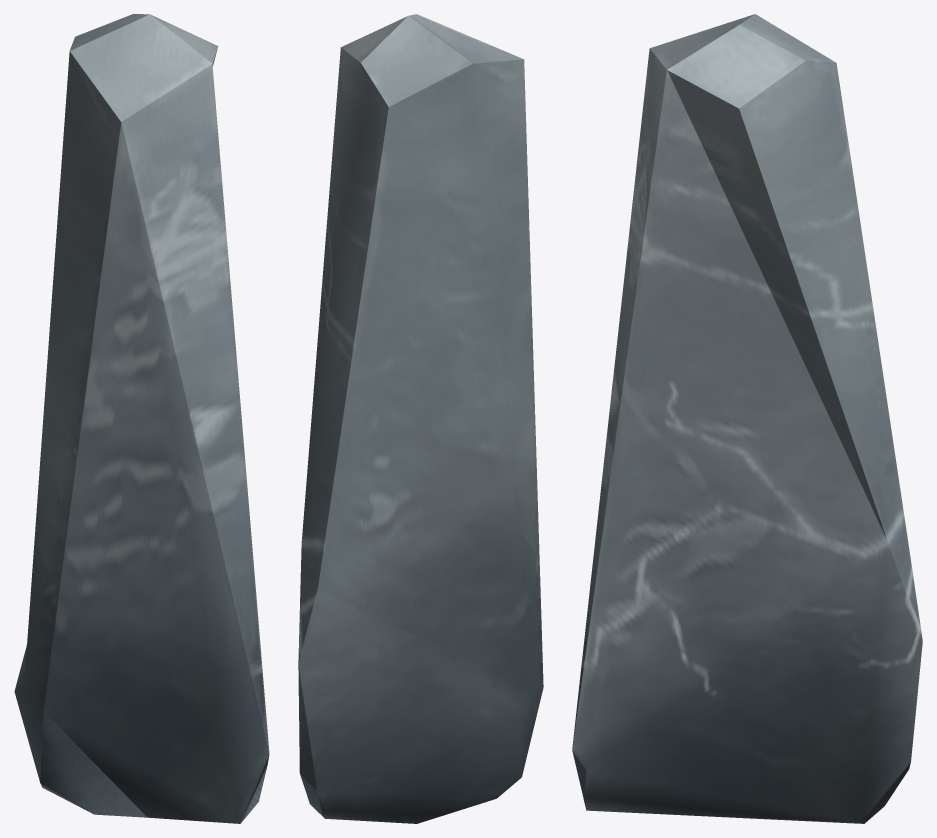
File: t_skala_5.obj
3 renders of one model, left to right at view 1: azimuth 30°, elevation 25°; view 2: azimuth 150°, elevation 25°; view 3: azimuth 270°, elevation 25°, orthographic. The views are drawn at different scales.
Visible parts, largest first — view 1: t_skala_5; view 2: t_skala_5; view 3: t_skala_5.
Boxes of the visible parts, x1=… form: t_skala_5: x1=14, y1=14, x2=269, y2=823; t_skala_5: x1=298, y1=14, x2=543, y2=823; t_skala_5: x1=572, y1=14, x2=922, y2=823.
Size of the model in its own units: 5.29 by 20.38 by 8.01.
1 material, 1 textured.
